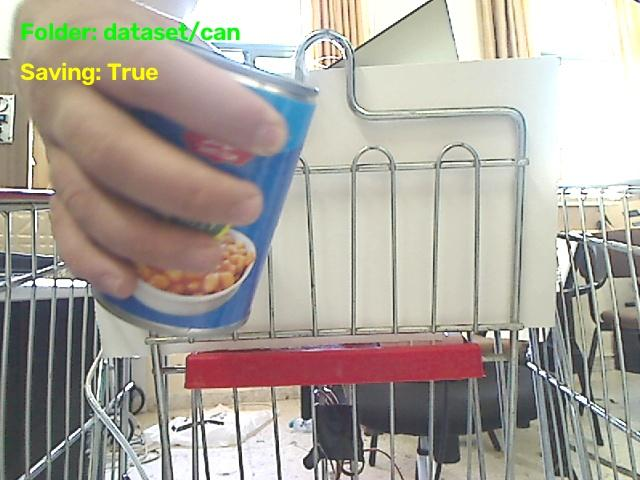can: (94, 44, 316, 337)
